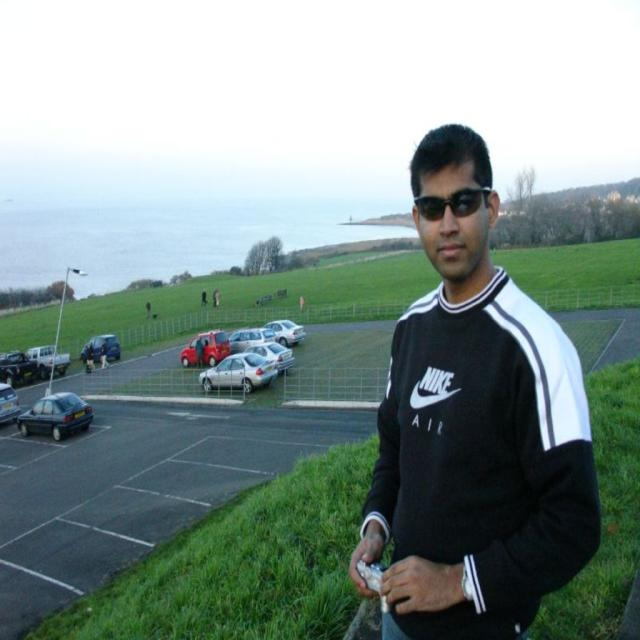car: (16, 390, 92, 443), (196, 358, 277, 394)
